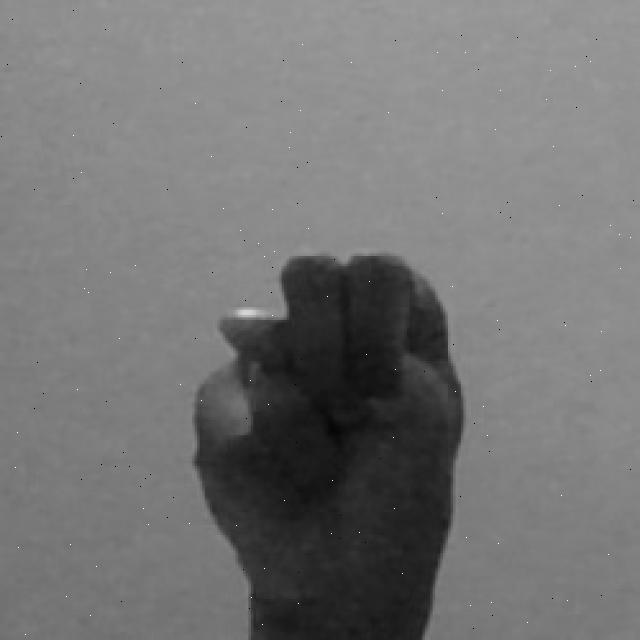N: (182, 243, 468, 640)
